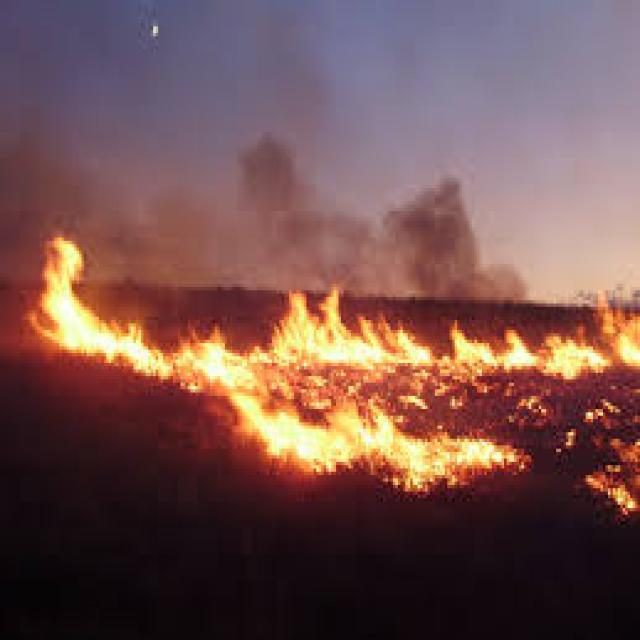Fire: (28, 232, 640, 516)
Smoke: (6, 26, 526, 295)
